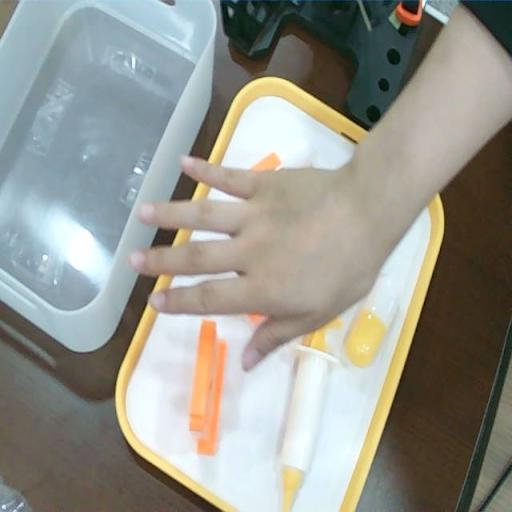hospital: (130, 149, 386, 372)
